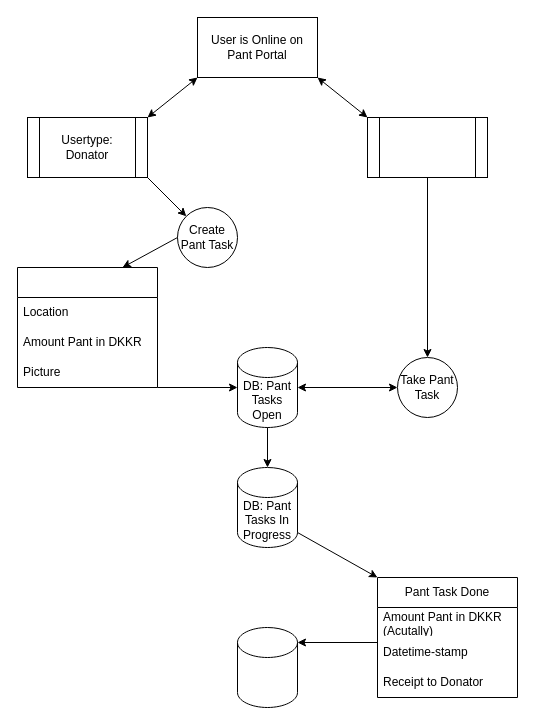
This 535x725 diagram has some shape labels left out. Each missing label, with the box of its shape:
DB: Pant Tasks Done: (236, 626, 298, 708)
Pant Task Entry: (16, 266, 158, 388)
Usertype: Panter: (366, 116, 488, 178)
